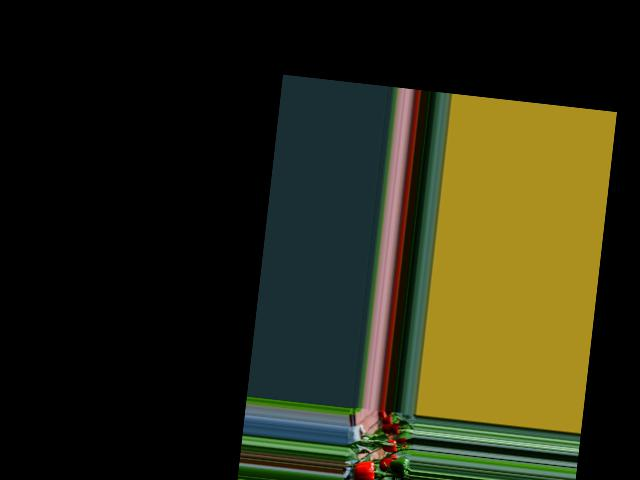bell_pepper: (378, 437, 401, 453)
